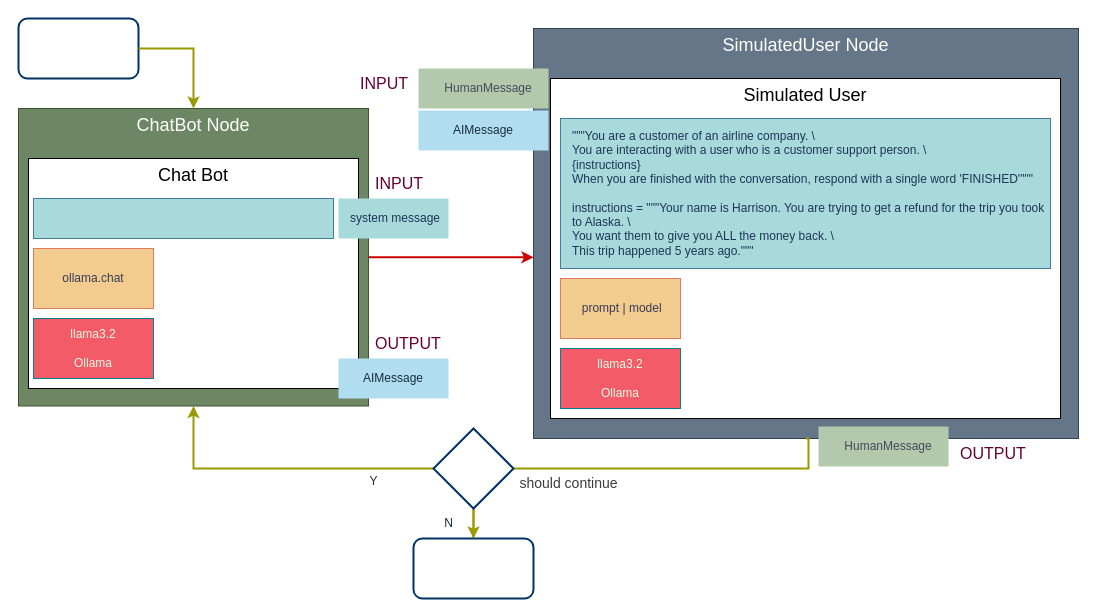
This 1096x616 diagram has some shape labels left out. Here are the shapes that lost their labels. From the top down, the centre of each, then its label:
At (78,48): "START".
At (183,218): "You are a customer support agent for an airline.".
At (473,568): "END".
